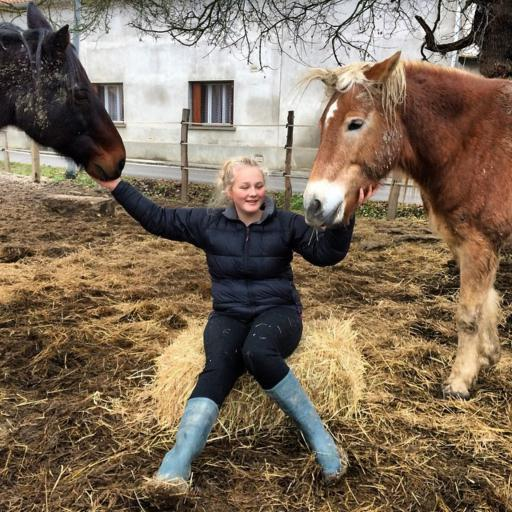horse: (280, 51, 512, 406), (0, 1, 131, 188)
